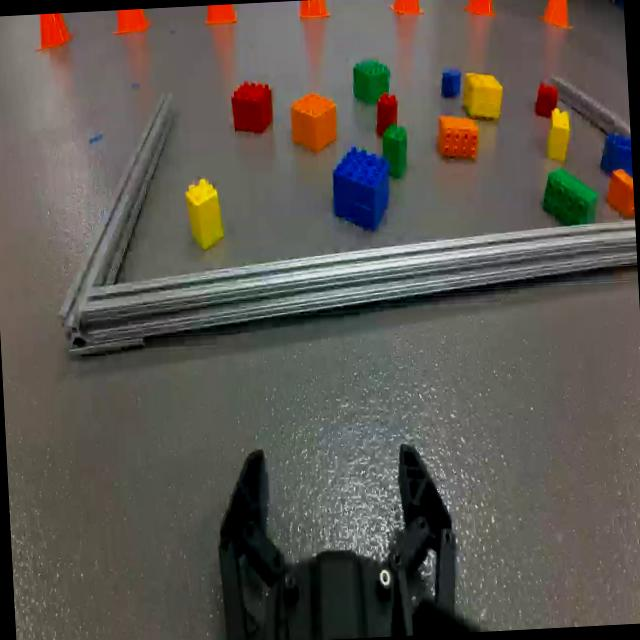block: (185, 178, 225, 253), (462, 74, 506, 120), (545, 106, 571, 160)
blue: (332, 144, 390, 229), (600, 133, 632, 173), (441, 68, 460, 97)
cone: (36, 13, 73, 52), (539, 0, 574, 31), (116, 8, 152, 38), (297, 0, 331, 24), (204, 4, 240, 24), (463, 0, 495, 19), (392, 0, 422, 18)
green: (540, 167, 600, 227), (352, 59, 392, 103), (386, 127, 410, 178)
metal barrier: (44, 60, 640, 357)
orange: (290, 92, 339, 154), (606, 167, 634, 216)
red goal: (434, 112, 482, 162), (231, 80, 273, 136), (374, 94, 398, 139), (534, 80, 560, 118)
